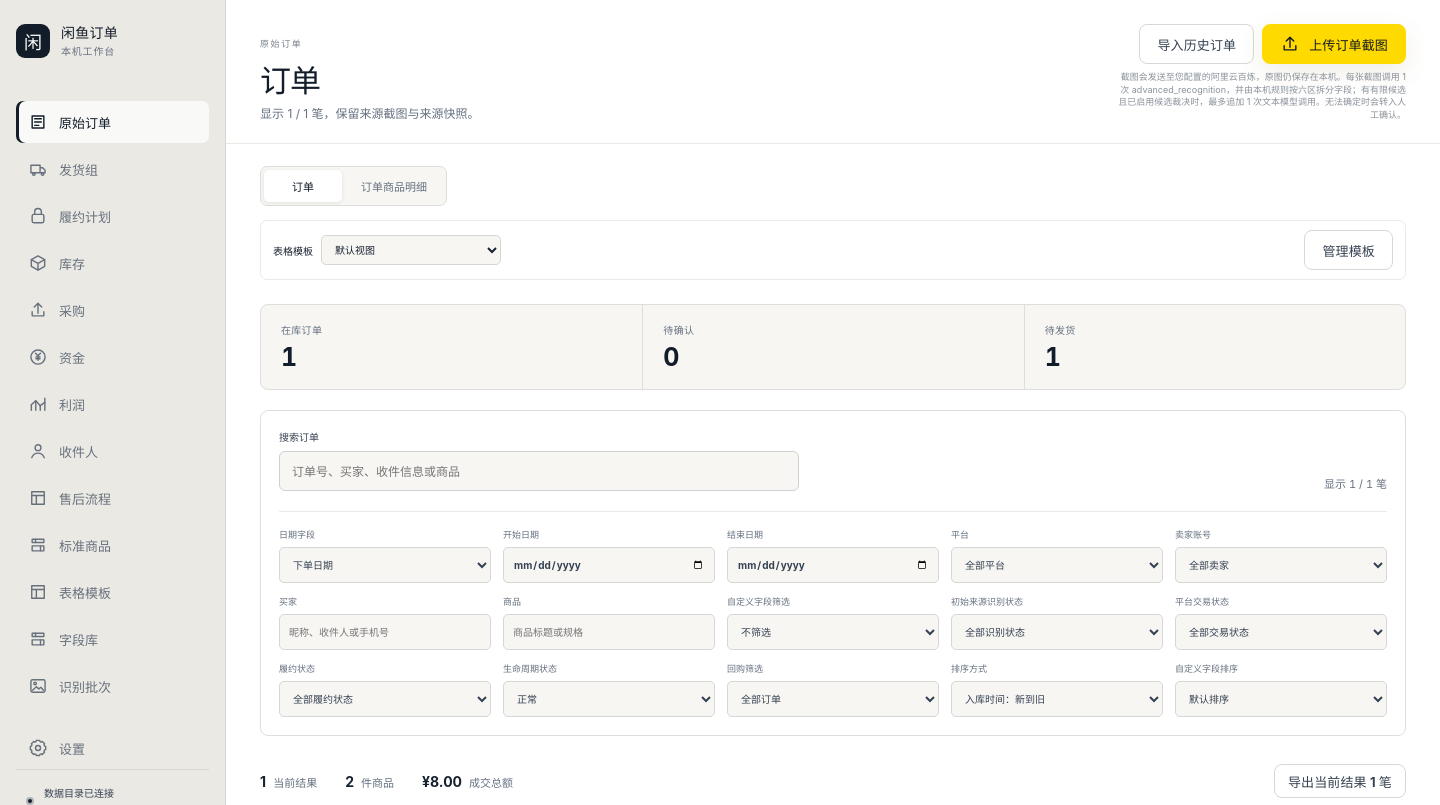
订单管理工作台 › 有剩余商品的发货组进入部分发货并可继续实际发出
Click the button "发货组".
click(112, 169)  # box [16,148,209,190]
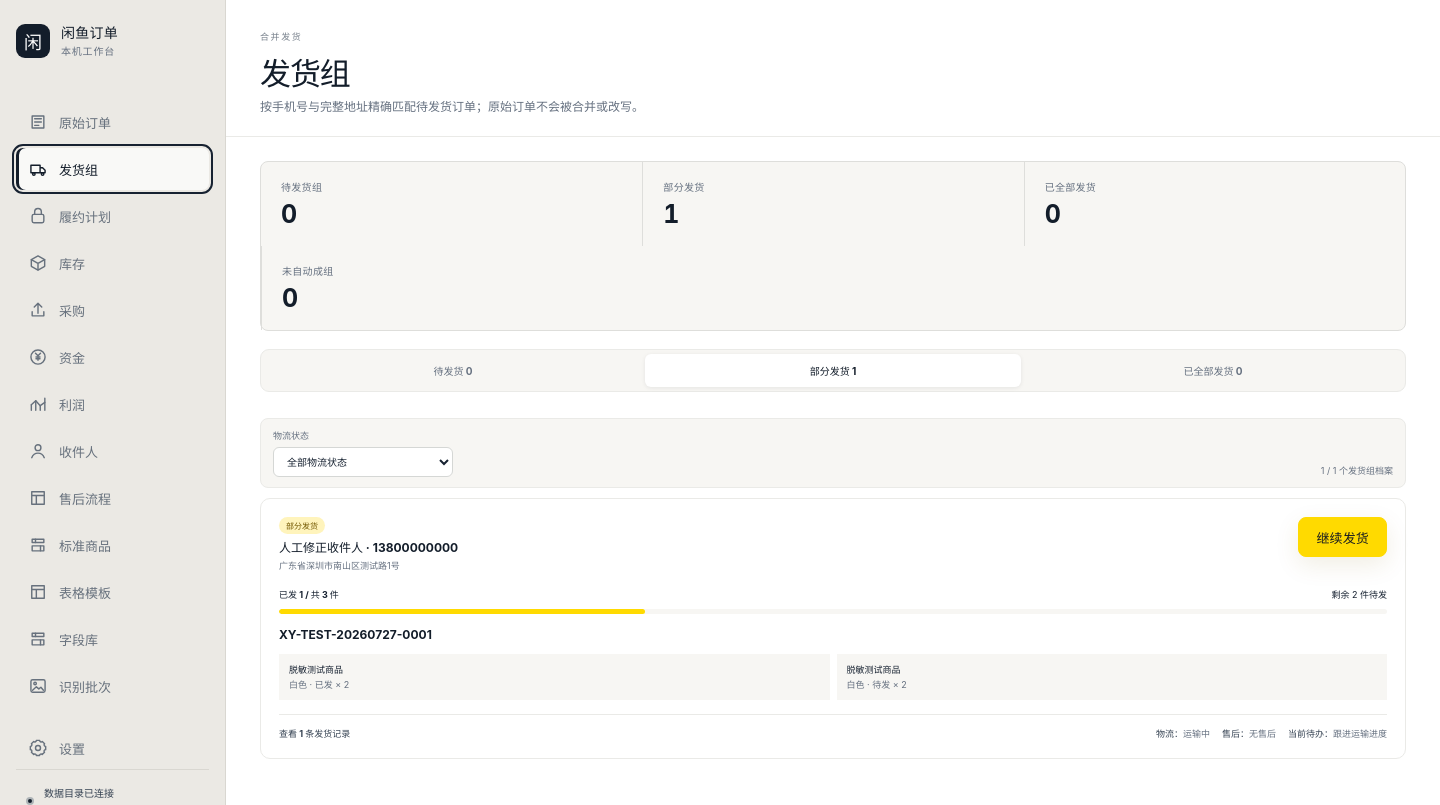
Check: the tab "待发货 0" is shown, box [265,354,641,387]
